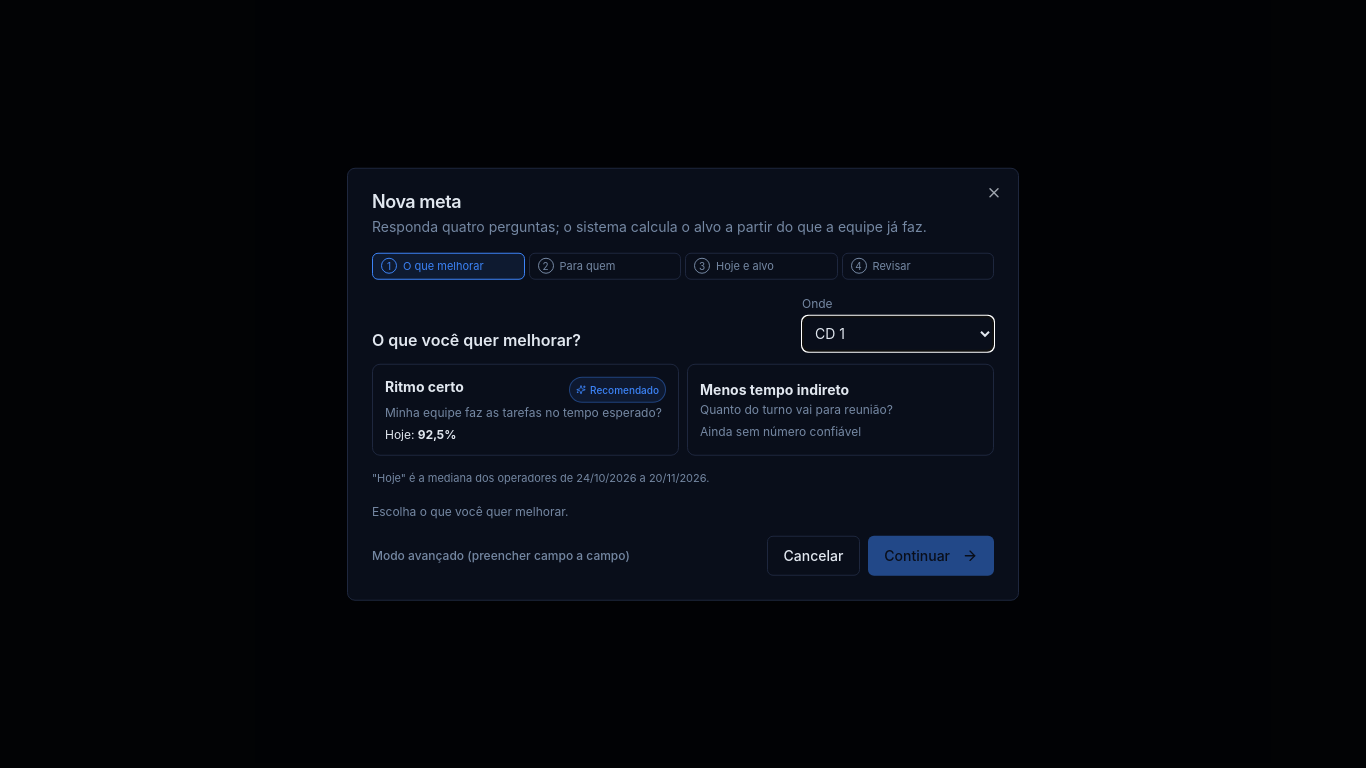
Test: Fase 10.28 · assistente de 4 passos › sem histórico: oferece Medir primeiro e salva sem alvo
Later steps or results of the test are not shown.
Click the radio button labelled "Ritmo certo": (526, 409) 372,363 -> 679,455
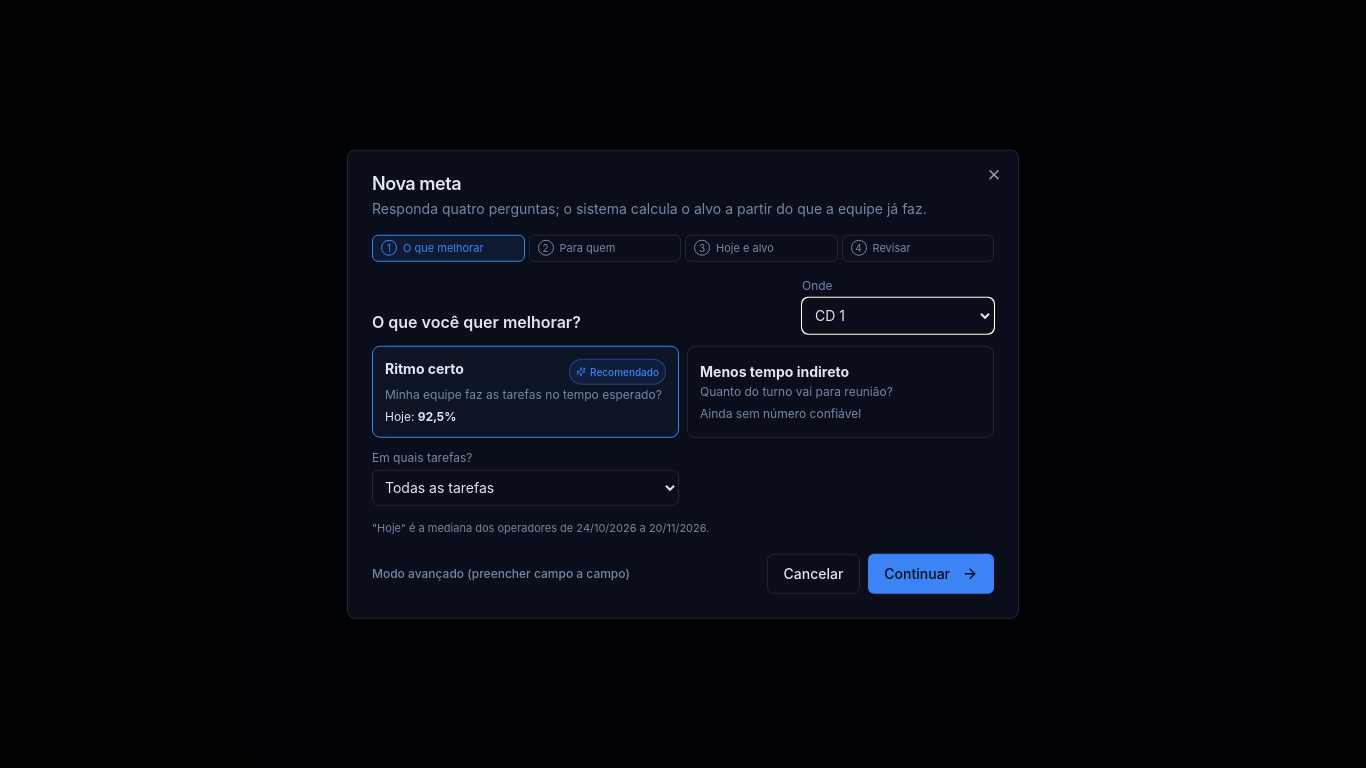
Click the button "Continuar": (931, 573) 868,553 -> 994,593
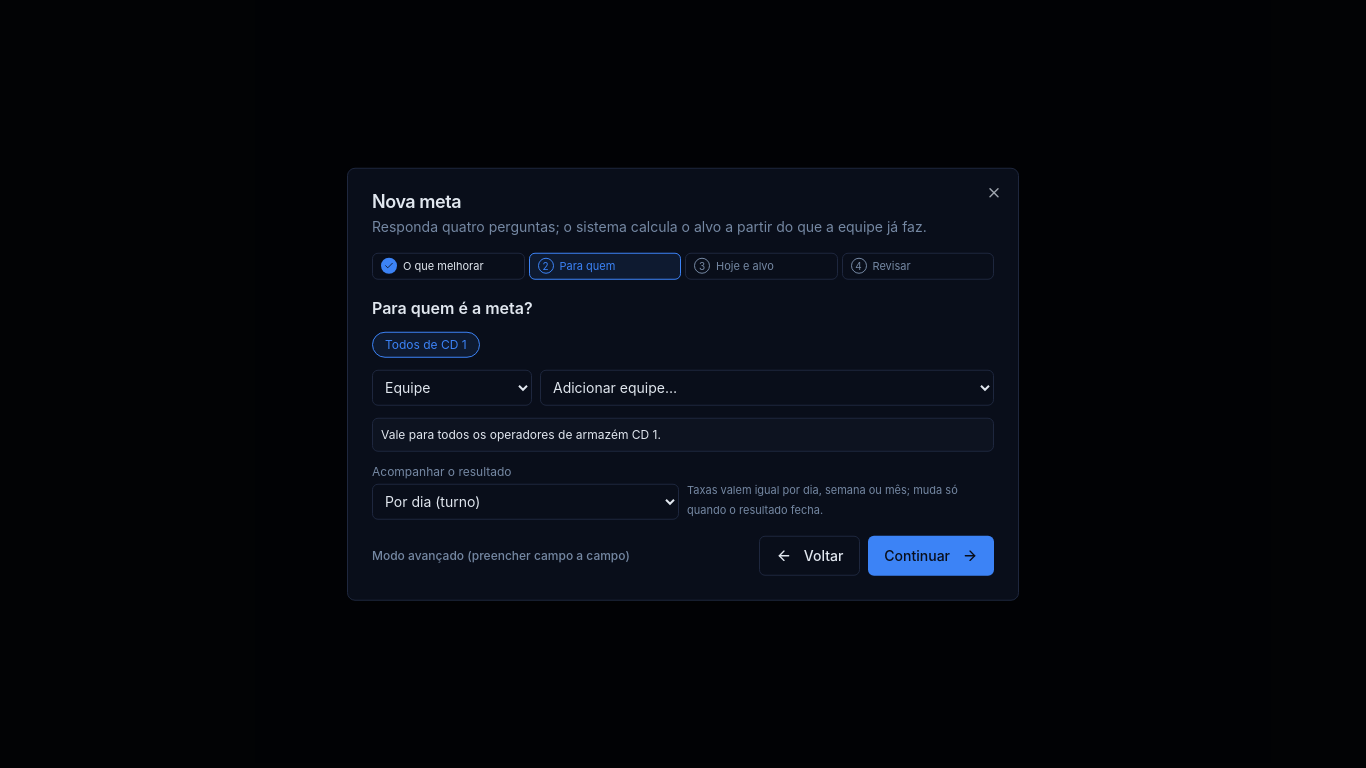
Click the button "Continuar": (931, 555) 868,535 -> 994,575
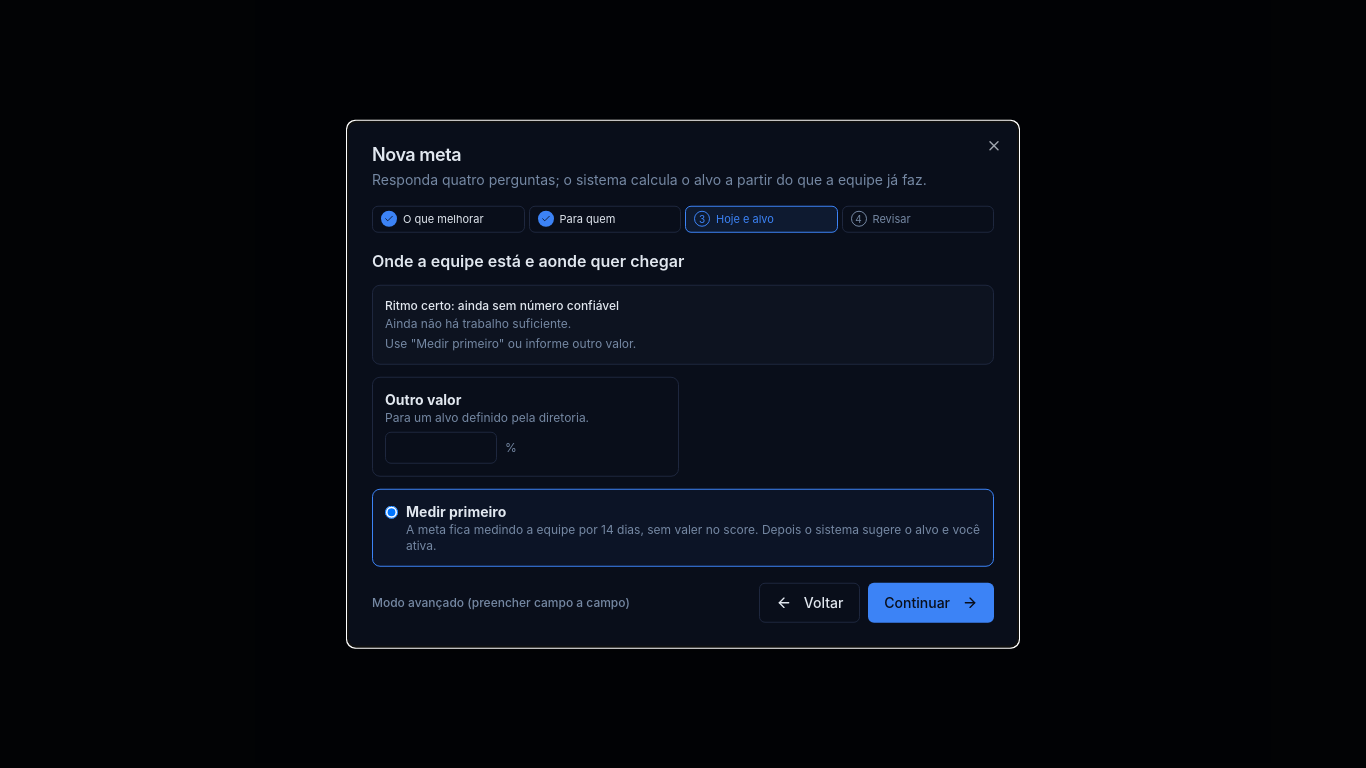
Now the text "Ainda não há trabalho suficiente." is shown, box 385,315 -> 571,330
Now the radio button labelled "Medir primeiro" is checked, box 385,505 -> 398,518
